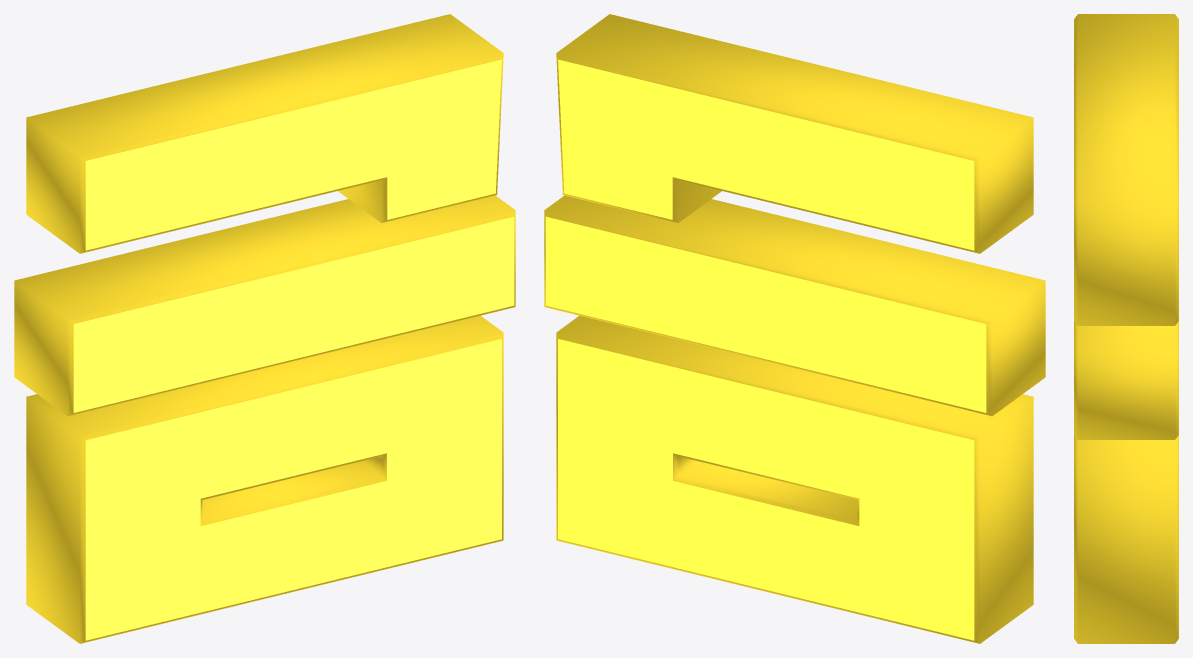
3 views of the same model, side by side, from view 1: azimuth 30°, elevation 25°; view 2: azimuth 150°, elevation 25°; view 3: azimuth 270°, elevation 25° (orthographic). The views are drawn at different scales.
Parts seen in each view (by area): view 1: glyph; view 2: glyph; view 3: glyph.
Boxes of the visible parts, left/top/right/bottom form: glyph: left=14, top=14, right=515, bottom=643; glyph: left=544, top=14, right=1045, bottom=643; glyph: left=1074, top=14, right=1178, bottom=643.
Size of the model in its own units: 0.0726 by 0.0755 by 0.0162.
